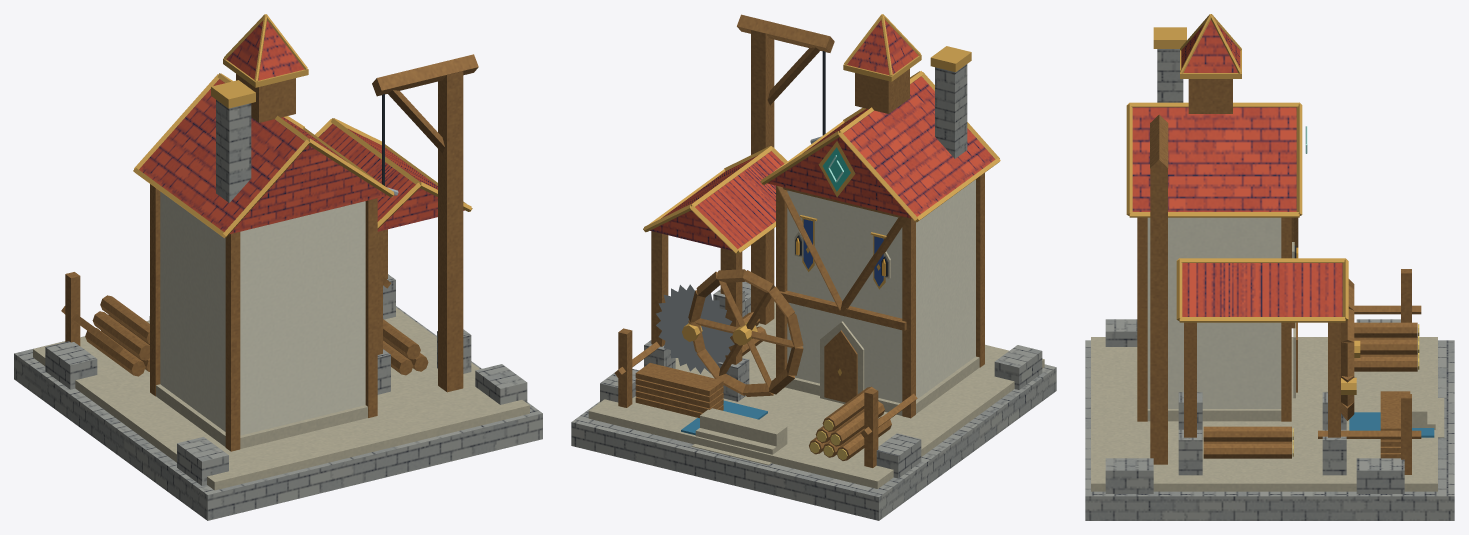
File: Sawmill_3.fbx
3 renders of one model, left to right at view 1: azimuth 30°, elevation 25°; view 2: azimuth 150°, elevation 25°; view 3: azimuth 270°, elevation 25°, orthographic. The views are drawn at different scales.
Parts seen in each view (by area): view 1: Sawmill_3; view 2: Sawmill_3; view 3: Sawmill_3.
Boxes of the visible parts, x1,y1,x2,y2 form: Sawmill_3: (14, 14, 542, 520); Sawmill_3: (571, 14, 1056, 520); Sawmill_3: (1085, 14, 1454, 520).
Size of the model in its own units: 1 by 1.22 by 1.
1 material, 1 textured.
